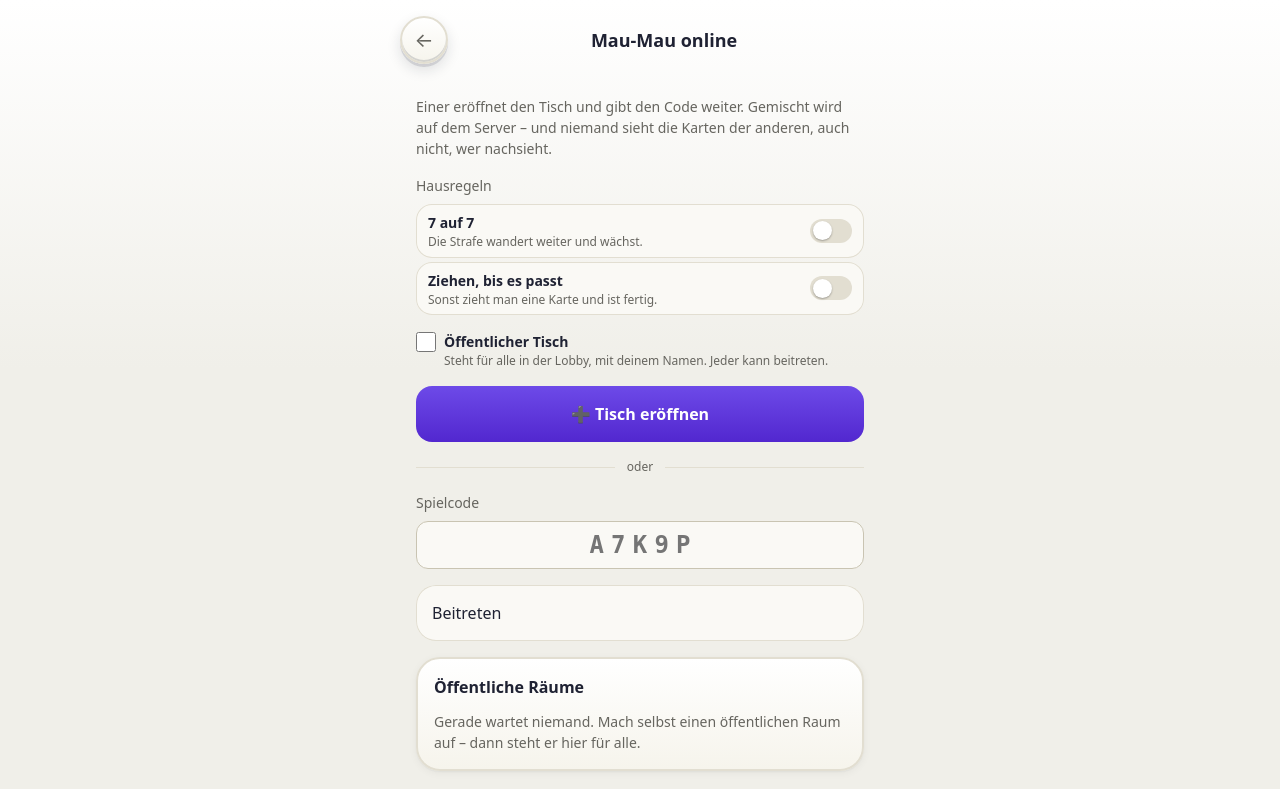
Test: Mau-Mau online › lässt eine Karte, die nicht passt, nicht legen
Click the button "➕ Tisch eröffnen" at (640, 414), box [416, 386, 864, 442]
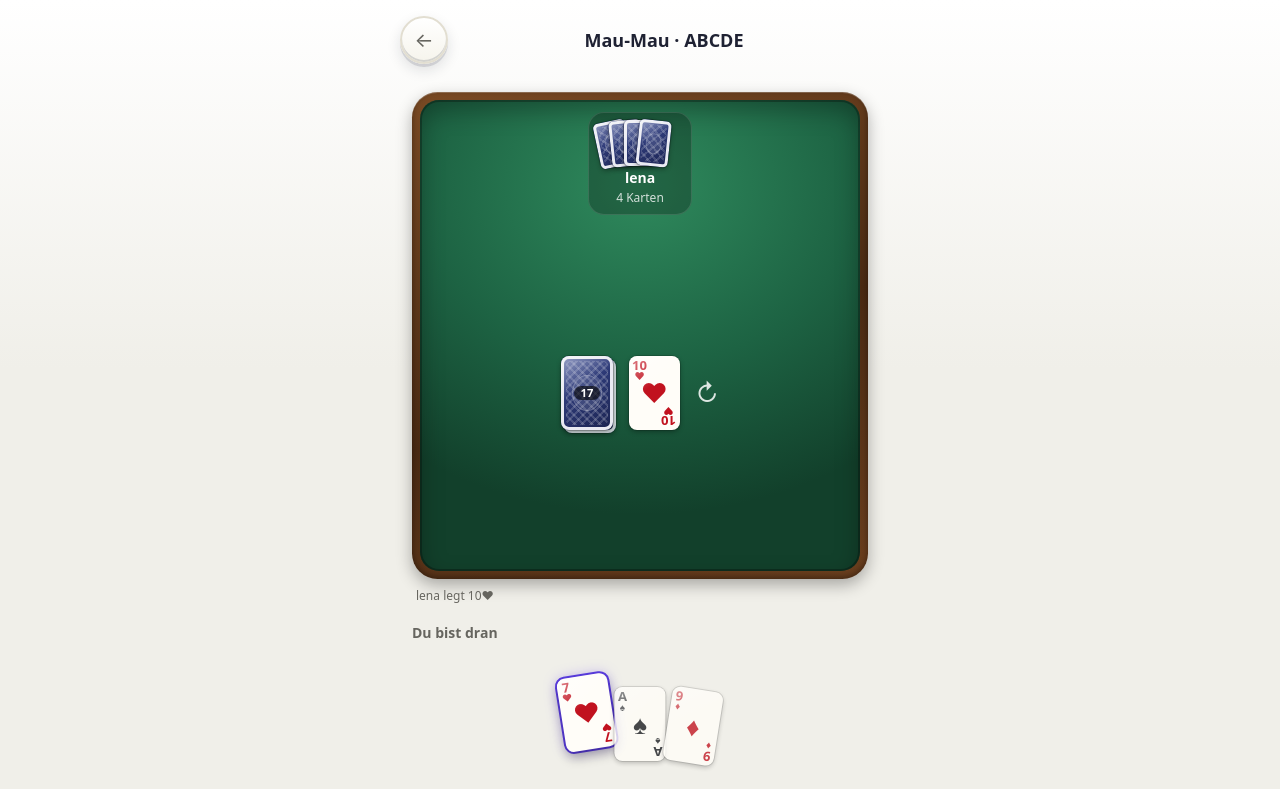
Check: the element named "Tischmitte" is shown, box [561, 356, 719, 433]
Check: the picture named "Pik A" is shown, box [614, 687, 666, 761]
Check: the button named "Herz Zwei ziehen legen" is shown, box [556, 672, 618, 753]
